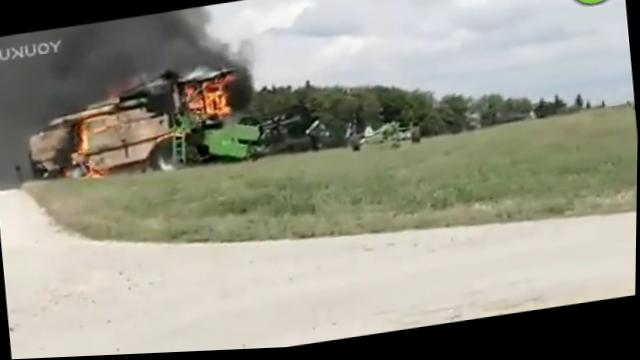fire: (204, 89, 232, 118), (79, 123, 91, 151), (191, 96, 205, 109), (94, 168, 107, 180)
